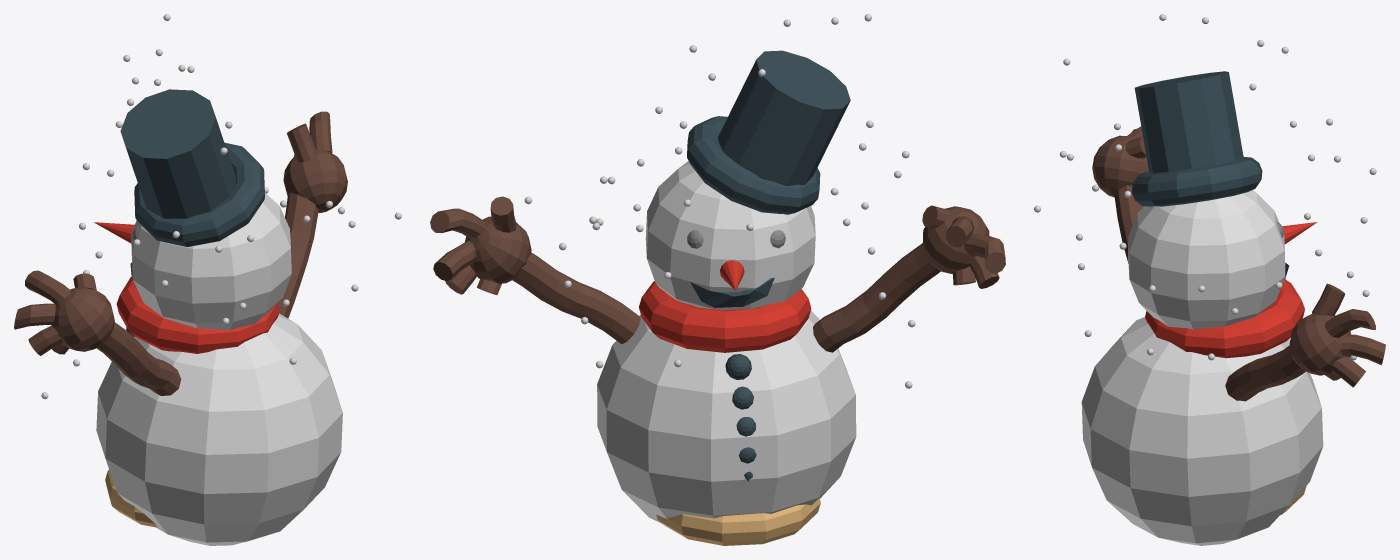
3 renders of one model, left to right at view 1: azimuth 30°, elevation 25°; view 2: azimuth 150°, elevation 25°; view 3: azimuth 270°, elevation 25°, orthographic. The views are drawn at different scales.
Visible parts, largest first — view 1: node_MeshObject-1564647424-PolyPaper21, node_MeshObject-1274233856-PolyPaper21; view 2: node_MeshObject-1564647424-PolyPaper21, node_MeshObject-1274233856-PolyPaper21; view 3: node_MeshObject-1564647424-PolyPaper21, node_MeshObject-1274233856-PolyPaper21.
Part boxes in pixels (bbox=[...]): node_MeshObject-1564647424-PolyPaper21: bbox=[14, 55, 401, 545]; node_MeshObject-1274233856-PolyPaper21: bbox=[41, 14, 296, 527]; node_MeshObject-1564647424-PolyPaper21: bbox=[430, 50, 1005, 523]; node_MeshObject-1274233856-PolyPaper21: bbox=[581, 14, 915, 545]; node_MeshObject-1564647424-PolyPaper21: bbox=[1034, 40, 1385, 545]; node_MeshObject-1274233856-PolyPaper21: bbox=[1059, 14, 1369, 514].
Size of the model in its own units: 1.37 by 1.52 by 0.9875.
